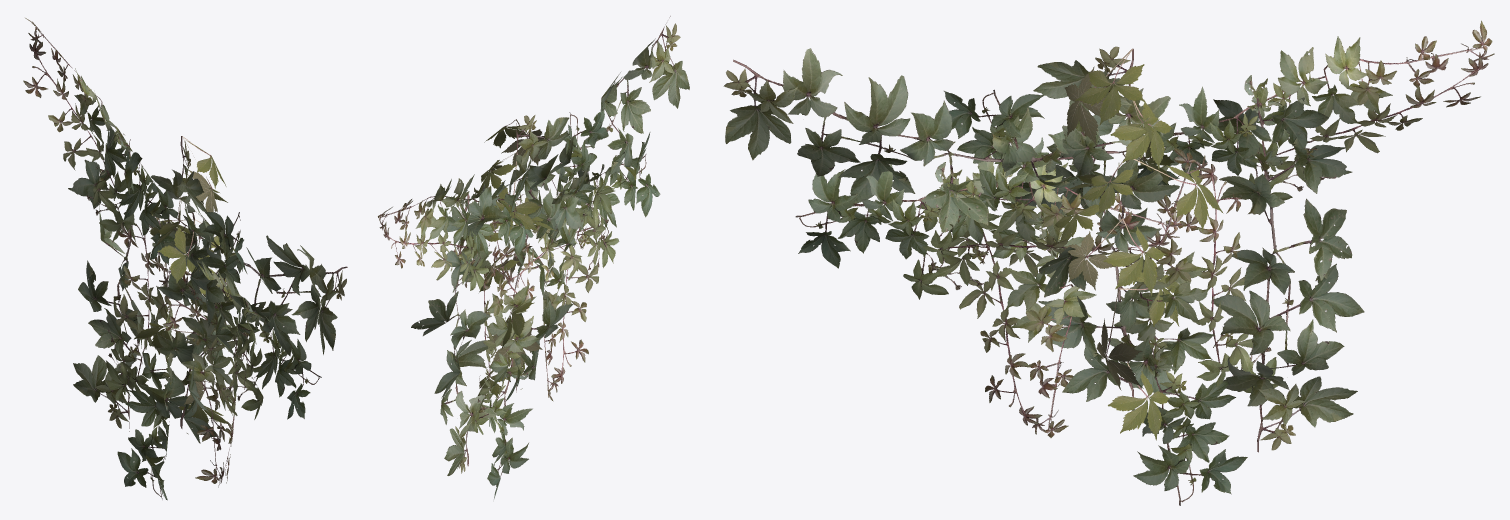
File: SM_Plant_Ivy_05.fbx
3 views of the same model, side by side, from view 1: azimuth 30°, elevation 25°; view 2: azimuth 150°, elevation 25°; view 3: azimuth 270°, elevation 25° (orthographic). The views are drawn at different scales.
Visible parts, largest first — view 1: SM_Plant_Ivy_05; view 2: SM_Plant_Ivy_05; view 3: SM_Plant_Ivy_05.
Boxes of the visible parts, <box> form: SM_Plant_Ivy_05: <box>23,18,347,500</box>; SM_Plant_Ivy_05: <box>378,16,689,498</box>; SM_Plant_Ivy_05: <box>723,20,1494,505</box>.
Bounding box in the file's own units: 27.4 × 199 × 136.
Materials: 1 (1 with a texture image).
